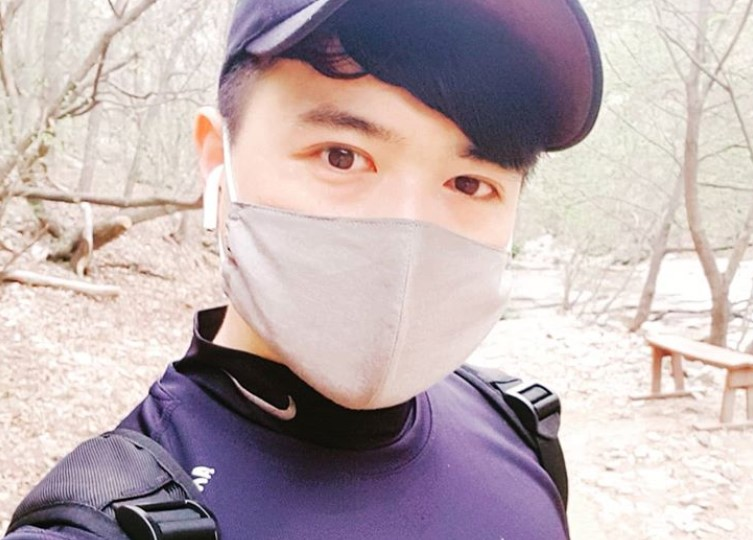face_with_mask: (185, 6, 613, 410)
